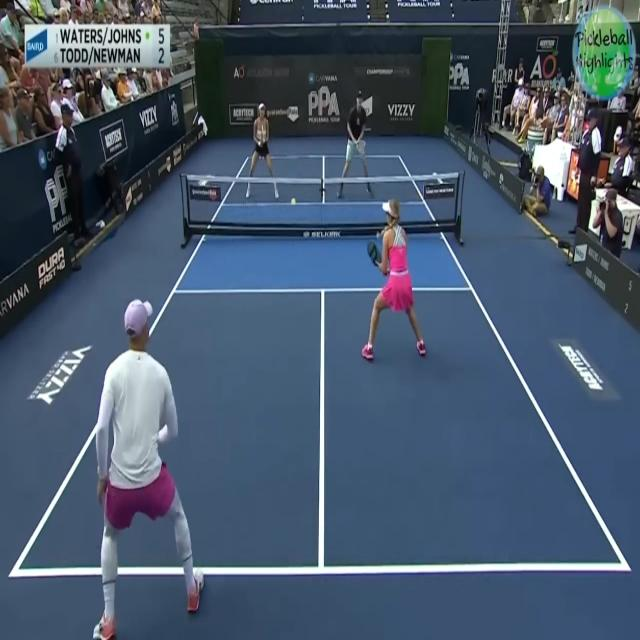Pickleball: (291, 195, 297, 207)
